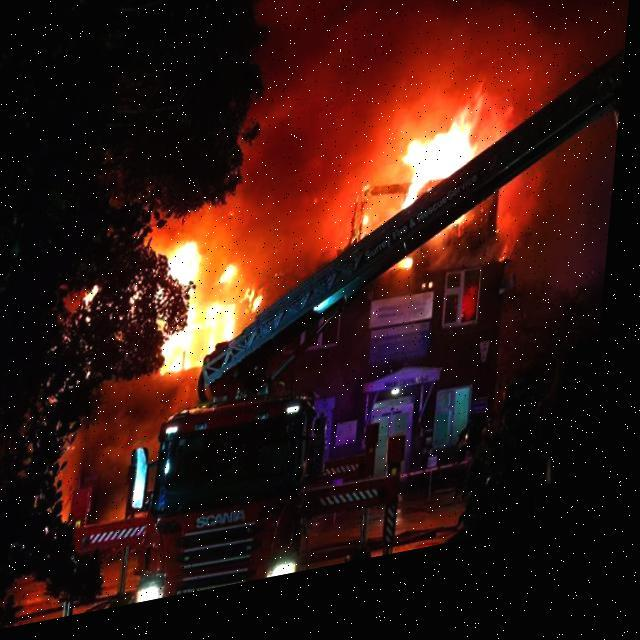Fire: (154, 237, 250, 385), (399, 120, 482, 289)
